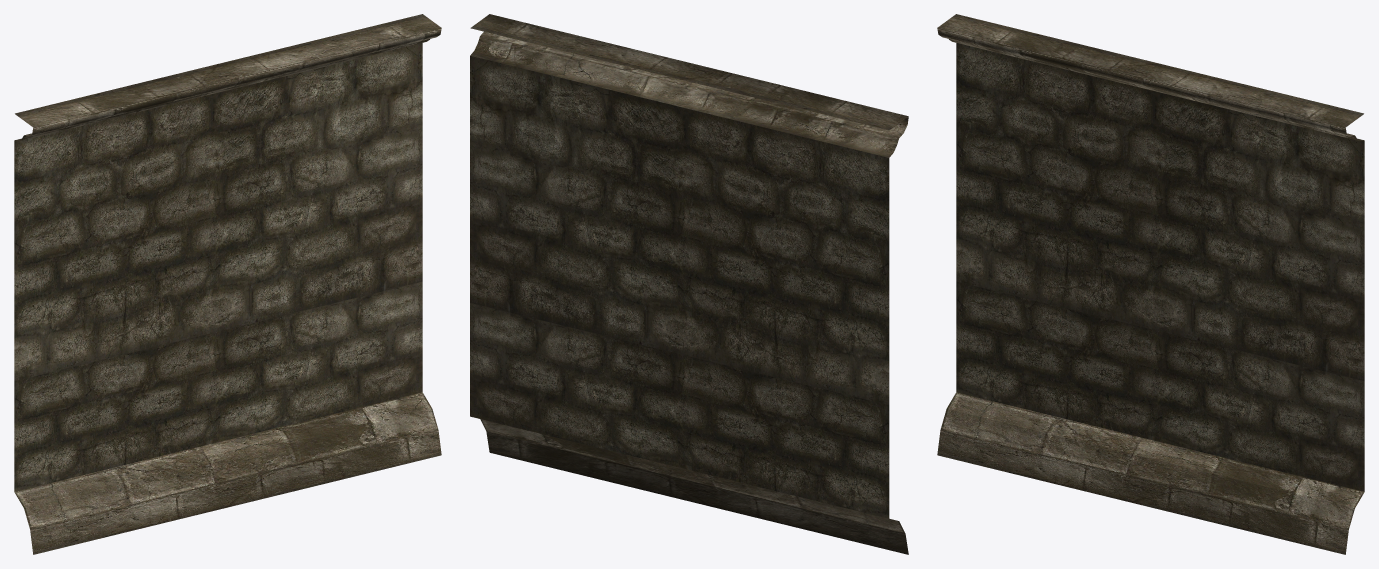
Rendered from default_extension_worn_amfp.dae.
3 renders of one model, left to right at view 1: azimuth 30°, elevation 25°; view 2: azimuth 150°, elevation 25°; view 3: azimuth 330°, elevation 25°, orthographic. The views are drawn at different scales.
Parts seen in each view (by area): view 1: polySurface112; view 2: polySurface112; view 3: polySurface112.
Part boxes in pixels (x1,y1,x2,y2): polySurface112: (14, 14, 441, 554); polySurface112: (470, 14, 908, 554); polySurface112: (937, 14, 1364, 554).
Size of the model in its own units: 400 by 400 by 32.19.
